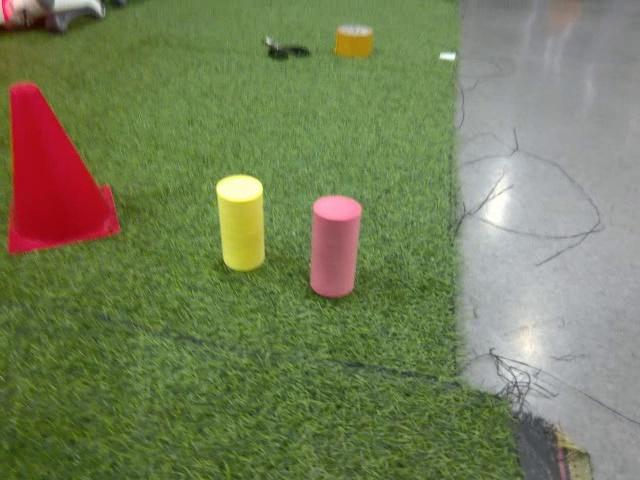red_barrel: (0, 75, 122, 254)
red_cylinder: (308, 195, 360, 298)
yellow_cylinder: (213, 170, 270, 272)
